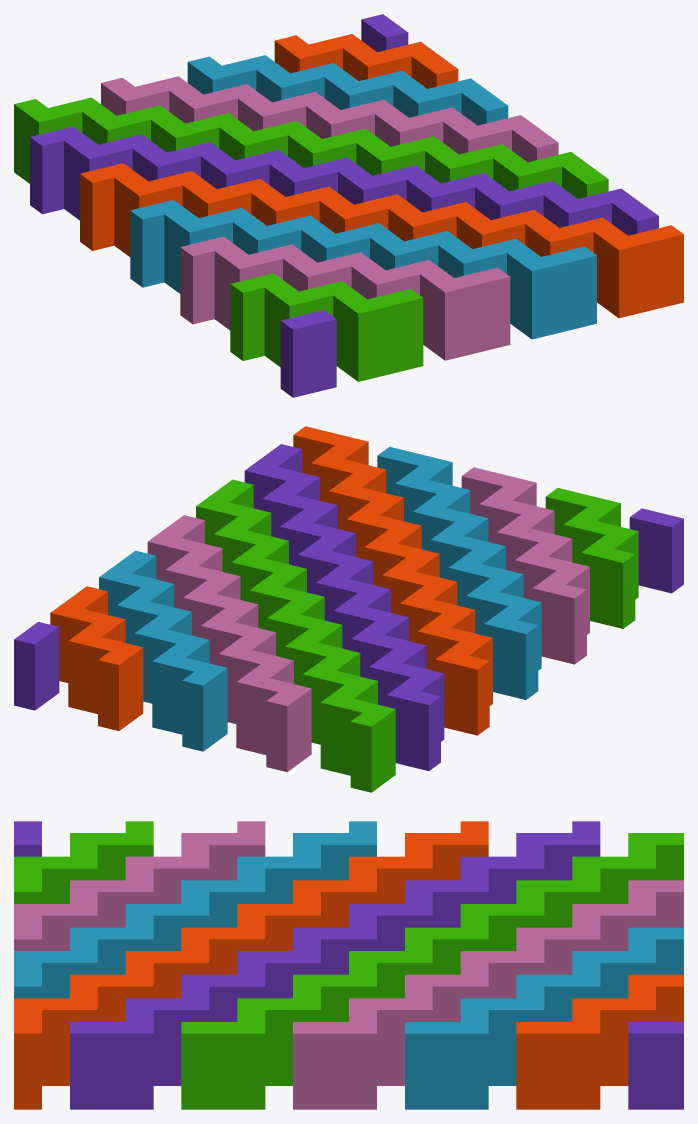
3 renders of one model, top to bottom at view 1: azimuth 30°, elevation 25°; view 2: azimuth 150°, elevation 25°; view 3: azimuth 270°, elevation 25°, orthographic. The views are drawn at different scales.
Parts seen in each view (by area): view 1: Null_12, Null_10, Null_2, Null_4, Null_8, Null_6, Null_11, Null_5, Null_7, Null_9, Null_3, Null_1 (+1 smaller); view 2: Null_1, Null_2, Null, Null_6, Null_8, Null_4, Null_10, Null_12, Null_5, Null_11, Null_3, Null_9 (+1 smaller); view 3: Null_10, Null_8, Null_4, Null_2, Null_6, Null_9, Null_3, Null_11, Null_7, Null_5, Null_1, Null_12 (+1 smaller).
Boxes of the visible parts, bbox=[...] form: Null_12: bbox=[280, 225, 683, 397]; Null_10: bbox=[230, 188, 645, 364]; Null_2: bbox=[30, 41, 445, 217]; Null_4: bbox=[80, 78, 495, 254]; Null_8: bbox=[180, 152, 595, 327]; Null_6: bbox=[130, 115, 545, 291]; Null_11: bbox=[277, 207, 658, 372]; Null_5: bbox=[126, 96, 508, 256]; Null_7: bbox=[177, 133, 558, 293]; Null_9: bbox=[227, 170, 608, 330]; Null_3: bbox=[76, 60, 458, 220]; Null_1: bbox=[26, 23, 408, 183]; Null_1: bbox=[26, 622, 395, 783]; Null_2: bbox=[50, 595, 440, 770]; Null: bbox=[14, 630, 383, 792]; Null_6: bbox=[147, 524, 538, 699]; Null_8: bbox=[196, 488, 586, 664]; Null_4: bbox=[99, 559, 489, 735]; Null_10: bbox=[244, 453, 635, 628]; Null_12: bbox=[293, 426, 683, 593]; Null_5: bbox=[123, 550, 492, 705]; Null_11: bbox=[269, 444, 638, 599]; Null_3: bbox=[75, 586, 444, 741]; Null_9: bbox=[220, 479, 589, 634]; Null_10: bbox=[97, 821, 153, 1109]; Null_8: bbox=[209, 821, 265, 1109]; Null_4: bbox=[432, 821, 488, 1109]; Null_2: bbox=[544, 821, 600, 1109]; Null_6: bbox=[321, 821, 376, 1109]; Null_9: bbox=[153, 833, 209, 1109]; Null_3: bbox=[488, 833, 544, 1109]; Null_11: bbox=[42, 833, 97, 1109]; Null_7: bbox=[265, 833, 320, 1109]; Null_5: bbox=[377, 833, 432, 1109]; Null_1: bbox=[600, 833, 655, 1109]; Null_12: bbox=[14, 821, 41, 1109].
Bounding box in the file's own units: 716 × 119 × 955.
